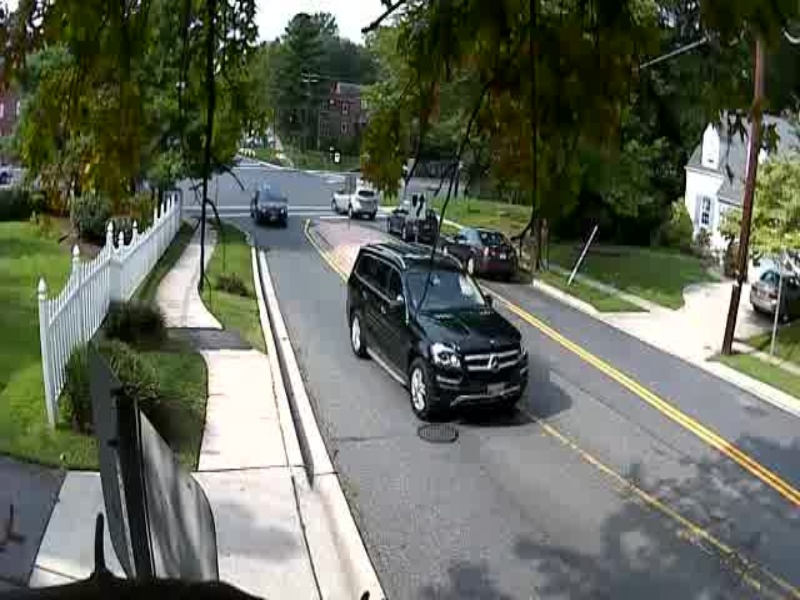car: (335, 250, 544, 432)
